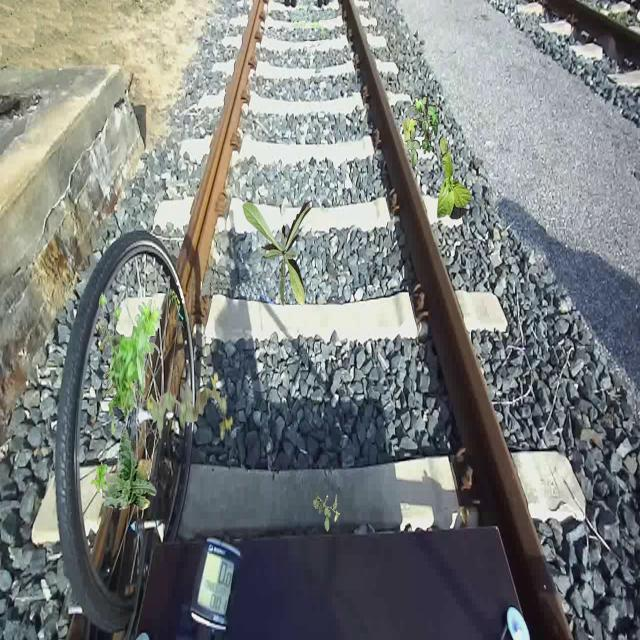Plant: (98, 292, 162, 436), (242, 200, 314, 308), (146, 372, 232, 440), (94, 427, 158, 510), (437, 136, 472, 220), (402, 93, 440, 166), (313, 491, 340, 532), (90, 462, 108, 494)
